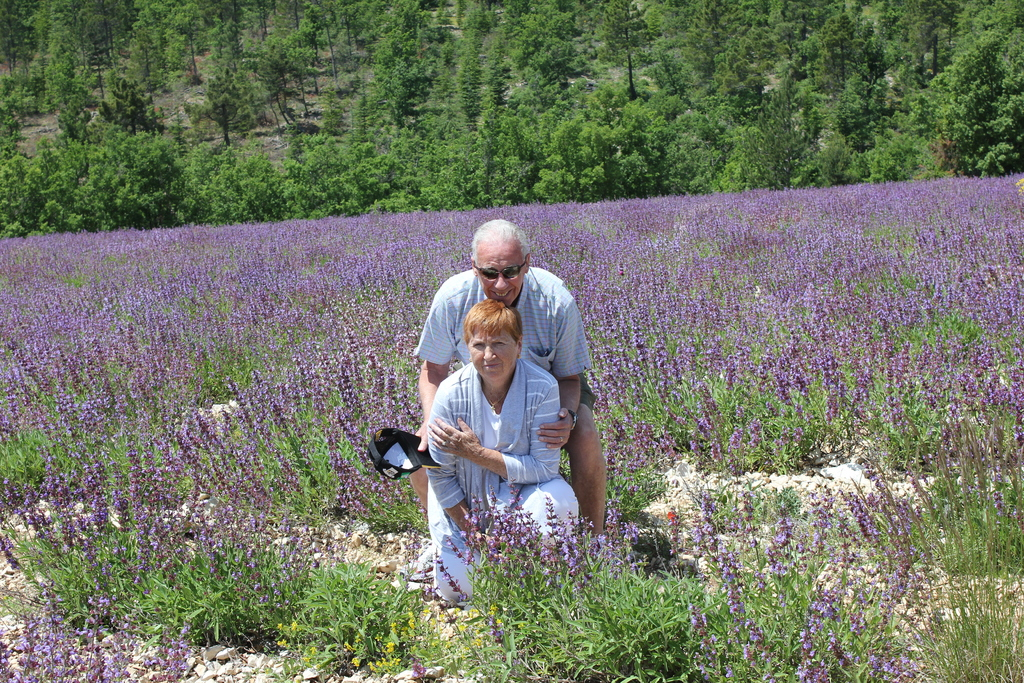Tree: (0, 0, 1024, 237)
